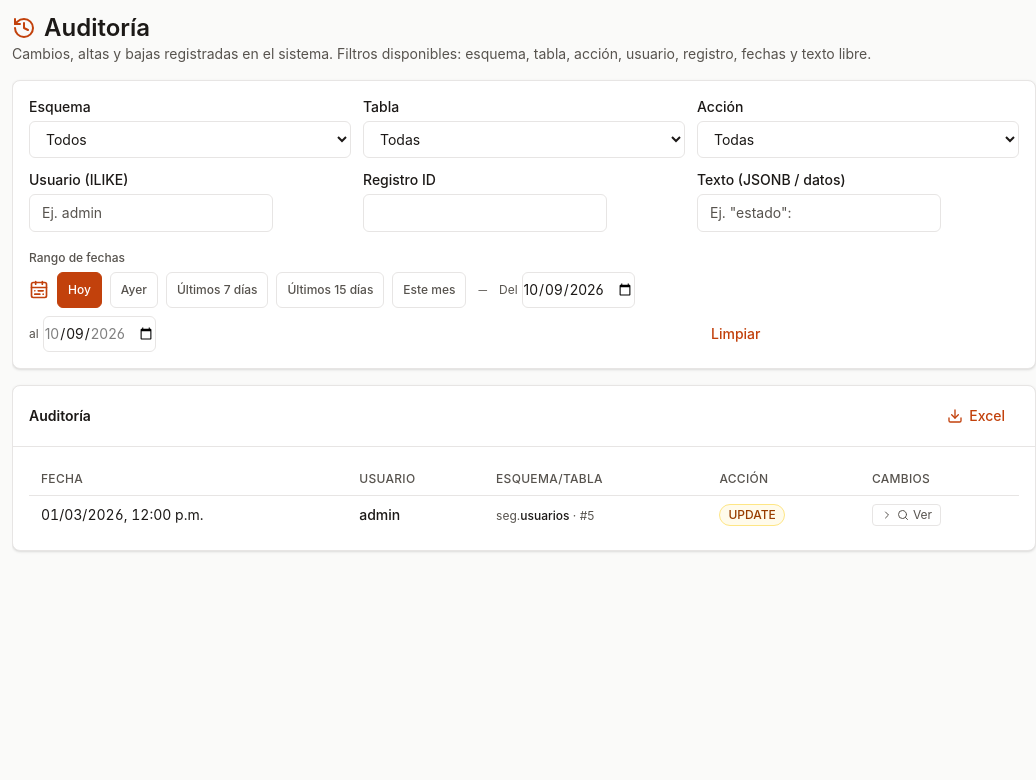
Test: AuditoriaPage (smoke) › expande el detalle de cambios al pulsar Ver
Step 1. Click the button "Ver" → x=906, y=515, box left=872, top=504, right=941, bottom=526
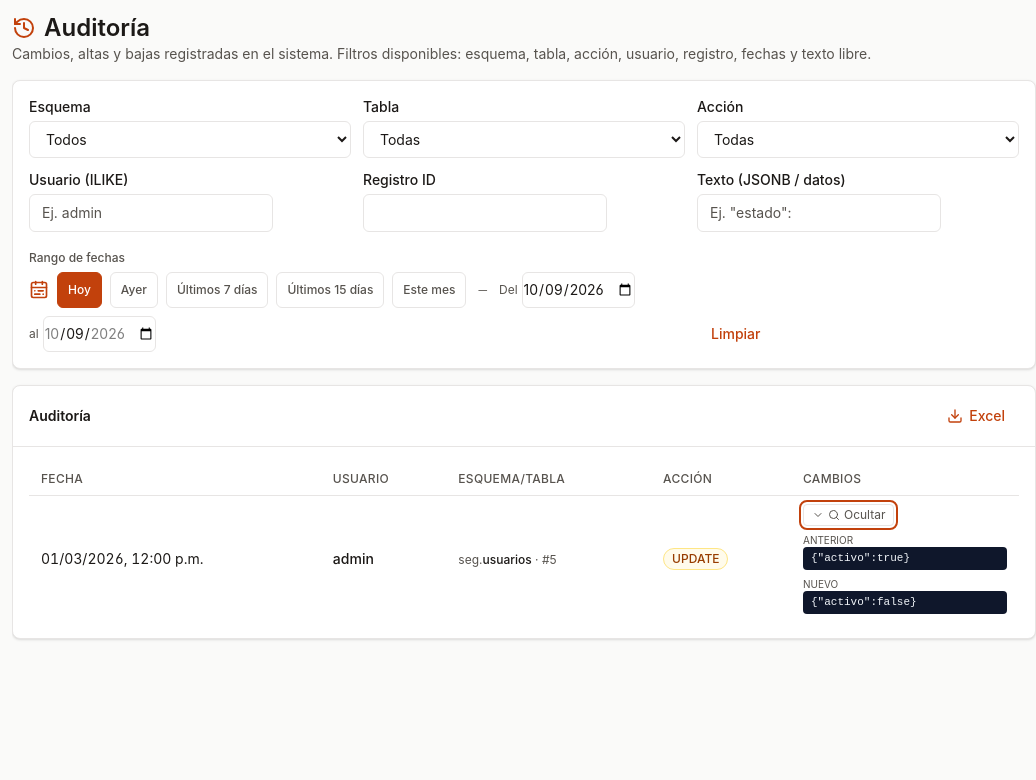
Check: the text "Anterior" is shown, box left=803, top=534, right=853, bottom=546
Check: the text "Nuevo" is shown, box left=803, top=578, right=838, bottom=590
Check: the button "Ocultar" is shown, box left=803, top=504, right=894, bottom=526
